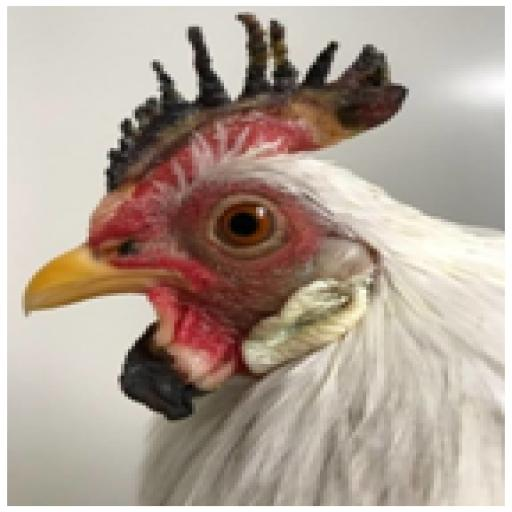disease: (49, 36, 395, 184), (80, 300, 266, 436)
